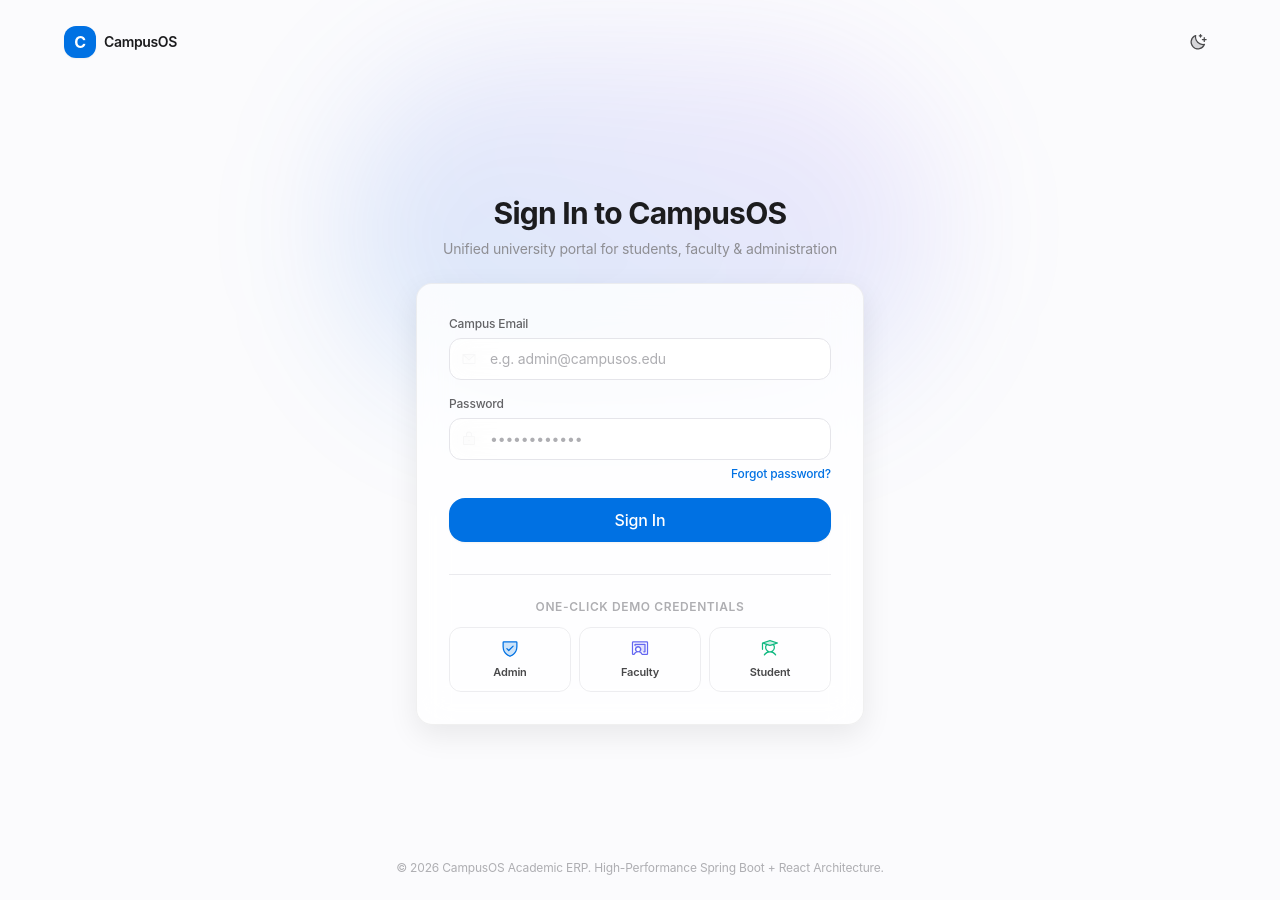
Test: Authentication and Store › LoginPage renders email and password fields and demo pills
Expected: the field with placeholder "e.g. admin@campusos.edu" is shown, [449,338,831,380]
Expected: the password field with placeholder "••••••••••••" is shown, [449,418,831,460]
// Click Student demo pill
Click the button "Student".
click(770, 660)  # box [709,627,831,692]
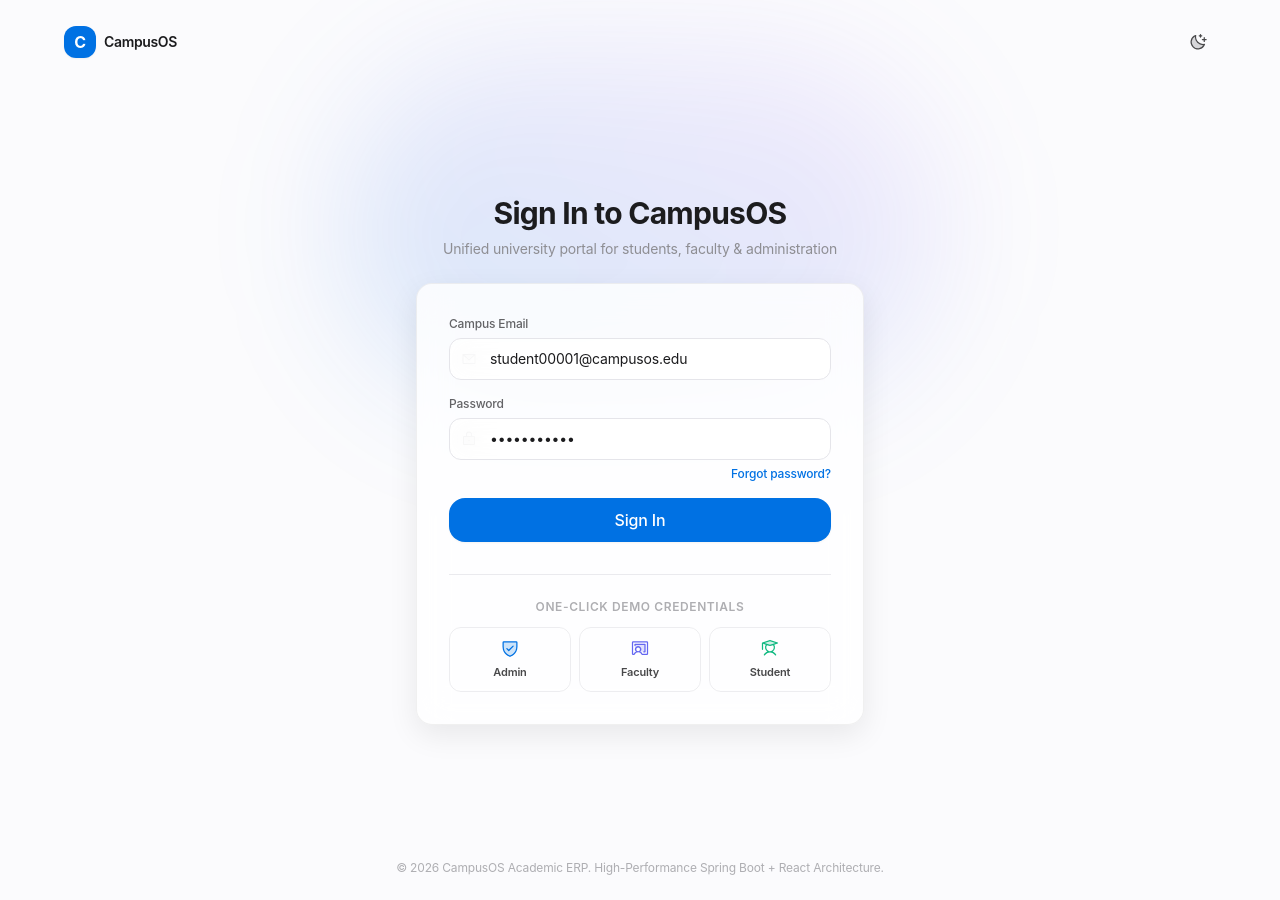
Now the field with placeholder "e.g. admin@campusos.edu" holds "student00001@campusos.edu", box [449,338,831,380]
